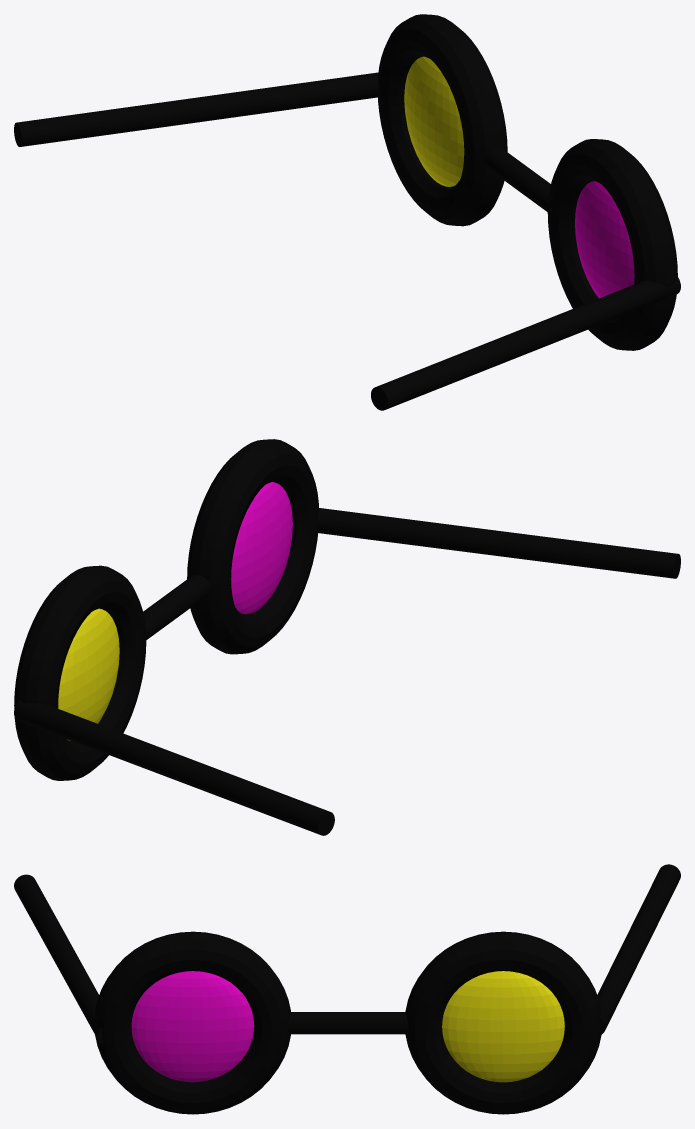
The model's file is dealmaker.fbx.
The picture shows the model from 3 angles, top to bottom: view 1: azimuth 30°, elevation 25°; view 2: azimuth 150°, elevation 25°; view 3: azimuth 270°, elevation 25°; orthographic projection. The views are drawn at different scales.
Parts seen in each view (by area): view 1: Torus.001, Torus, Cylinder.001, Cylinder.002, Sphere.001, Sphere, Cylinder; view 2: Torus, Torus.001, Cylinder.002, Cylinder.001, Sphere, Sphere.001, Cylinder; view 3: Torus.001, Torus, Sphere.001, Sphere, Cylinder.001, Cylinder.002, Cylinder.
Part boxes in pixels (box(x1,y1,x2,y2)): Torus.001: box(378, 14, 507, 226); Torus: box(547, 139, 677, 350); Cylinder.001: box(14, 72, 378, 146); Cylinder.002: box(371, 276, 680, 410); Sphere.001: box(404, 56, 464, 186); Sphere: box(575, 181, 634, 298); Cylinder: box(484, 147, 550, 211); Torus: box(187, 439, 318, 654); Torus.001: box(14, 565, 146, 780); Cylinder.002: box(316, 508, 680, 578); Cylinder.001: box(14, 700, 334, 835); Sphere: box(231, 482, 292, 614); Sphere.001: box(58, 608, 119, 740); Cylinder: box(143, 574, 210, 639); Torus.001: box(405, 931, 601, 1114); Torus: box(94, 931, 291, 1114); Sphere.001: box(442, 971, 564, 1082); Sphere: box(131, 971, 254, 1082); Cylinder.001: box(597, 864, 680, 1035); Cylinder.002: box(14, 874, 103, 1044); Cylinder: box(287, 1012, 408, 1034).
Size of the model in its own units: 22.15 by 11.74 by 39.57.
